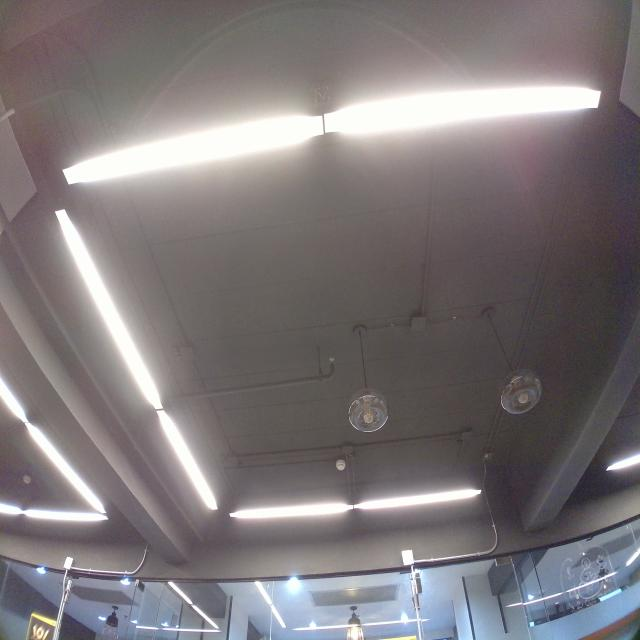lamp2_on: (54, 76, 614, 196), (44, 202, 226, 520), (228, 480, 493, 522)
